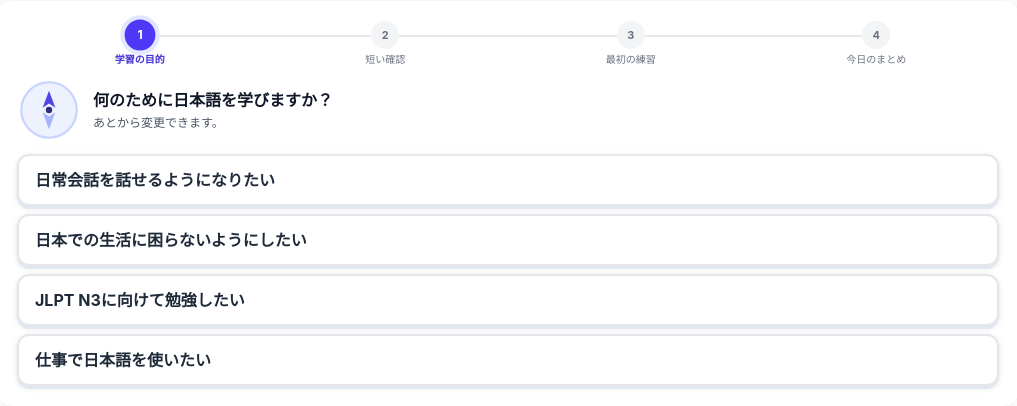
Scenario: 初回Journeyの4ステップ（§4-§5・§11） › 目的を選ぶとStep2へ進み、進捗と説明が変わる（試験ではないと明示）
Click the button "JLPT N3に向けて勉強したい". click: (140, 300)
box: [17,274,999,326]
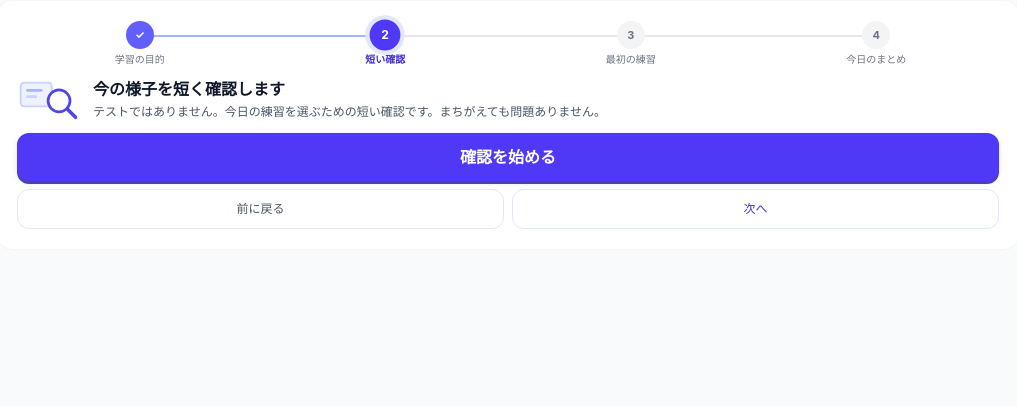
Now the text "テストではありません。今日の練習を選ぶための短い確認です。まちがえても問題ありません。" is shown, box [93,104,606,120]
Now the button "確認を始める" is shown, box [17,133,999,181]
